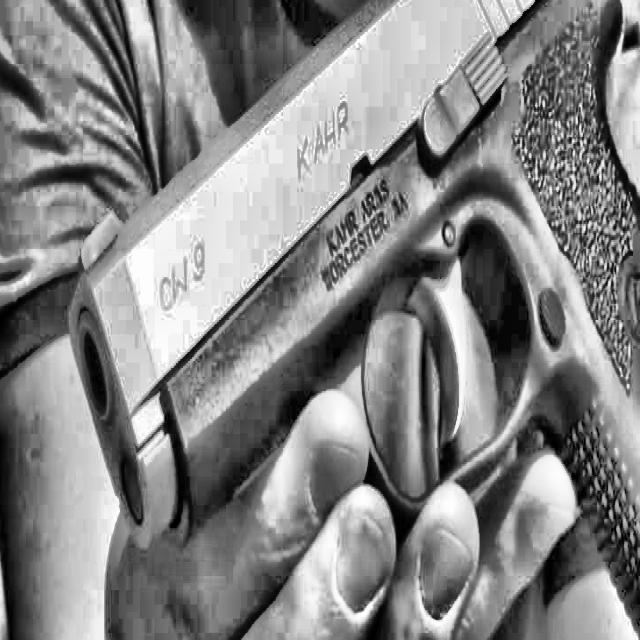Kahr: (65, 0, 640, 640)
